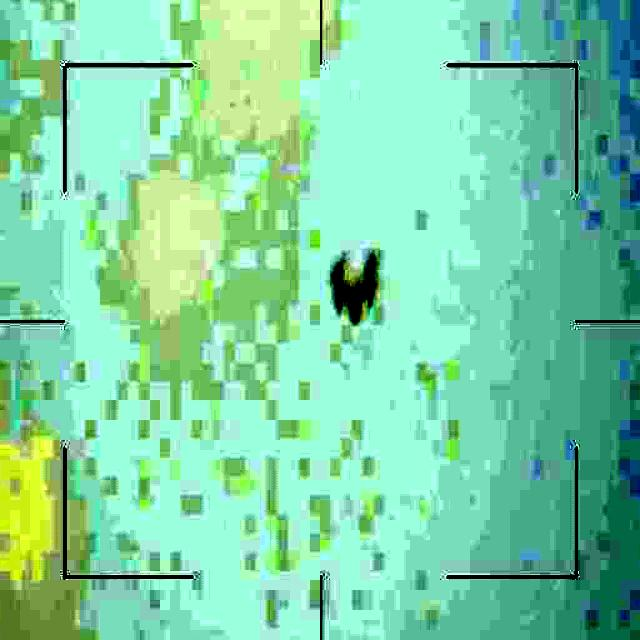bird: (326, 251, 382, 338)
